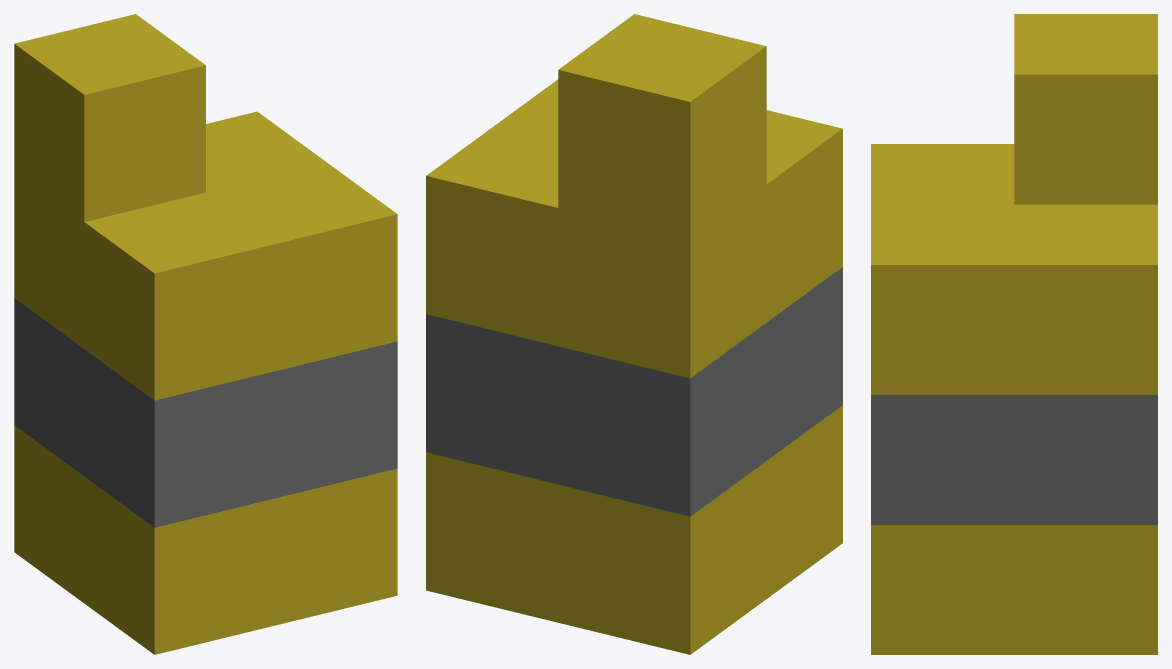
File: BulletPistol.obj
The picture shows the model from 3 angles, left to right: view 1: azimuth 30°, elevation 25°; view 2: azimuth 150°, elevation 25°; view 3: azimuth 270°, elevation 25°; orthographic projection. The views are drawn at different scales.
Bounding box in the file's own units: 0.2 × 0.4 × 0.2.
1 material, 1 textured.
